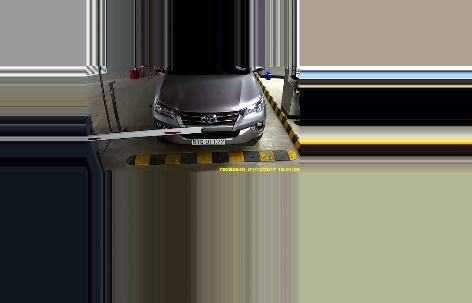plate: (192, 136, 226, 148)
